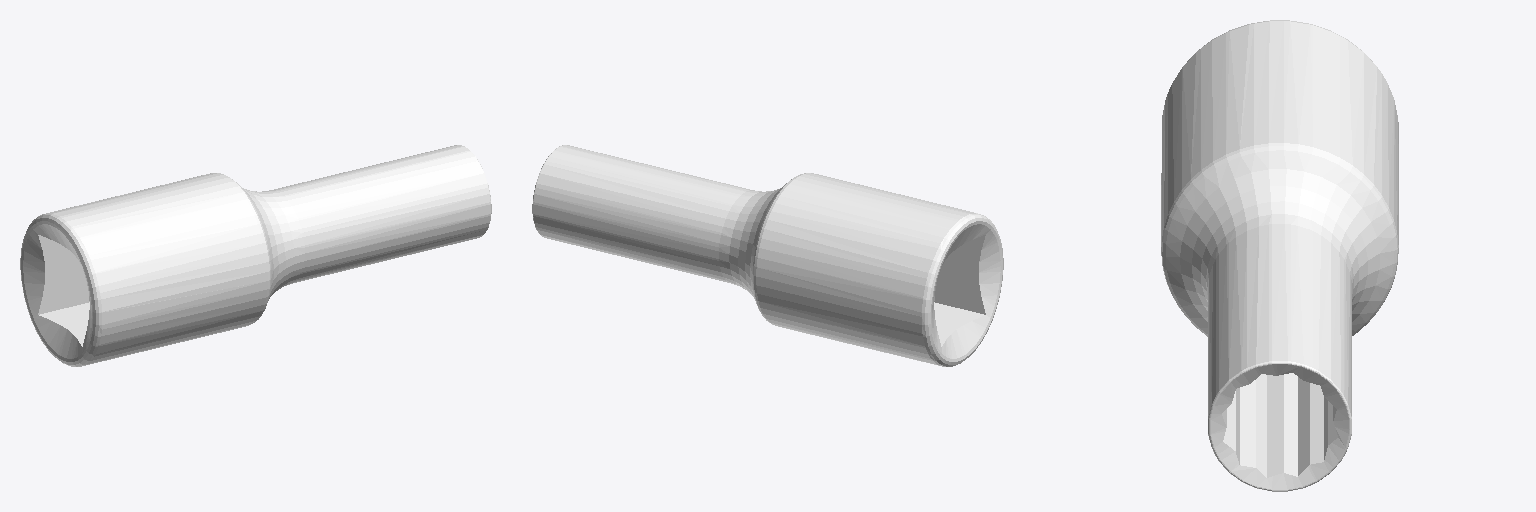
The robot description file, URDF, robot "M6_sleeve":
<?xml version="1.0" encoding="utf-8"?>
<!-- This URDF was automatically created by SolidWorks to URDF Exporter! Originally created by [author] ([email redacted]) 
     Commit Version: 1.6.0-4-g7f85cfe  Build Version: 1.6.7995.38578
     For more information, please see http://wiki.ros.org/sw_urdf_exporter -->
<robot
  name="M6_sleeve">
  <link
    name="M6_sleeve_base_link">
    <inertial>
      <origin
        xyz="-0.0011603 -1.1059E-17 1.8063E-16"
        rpy="0 0 0" />
      <mass
        value="0.010651" />
      <inertia
        ixx="8.1338E-07"
        ixy="2.9592E-21"
        ixz="-4.8249E-20"
        iyy="3.3923E-06"
        iyz="1.2184E-38"
        izz="3.3923E-06" />
    </inertial>
    <visual>
      <origin
        xyz="0 0 0"
        rpy="0 0 0" />
      <geometry>
        <mesh
          filename="package://M6_sleeve/meshes/M6_sleeve_base_link.dae" />
      </geometry>
      <material
        name="">
        <color
          rgba="1 1 1 1" />
      </material>
    </visual>
    <collision>
      <origin
        xyz="0 0 0"
        rpy="0 0 0" />
      <geometry>
        <mesh
          filename="package://M6_sleeve/meshes/M6_sleeve_base_link.dae" />
      </geometry>
    </collision>
  </link>
</robot>

--- Facts derived from the render (not from the file) ---
The picture shows the robot from 3 angles, left to right: view 1: azimuth 30°, elevation 25°; view 2: azimuth 150°, elevation 25°; view 3: azimuth 270°, elevation 25°; orthographic projection.
Robot: M6_sleeve — 1 links, 0 joints (none); root link M6_sleeve_base_link; default pose: all joints at 0.
Visible links, largest first — view 1: M6_sleeve_base_link; view 2: M6_sleeve_base_link; view 3: M6_sleeve_base_link.
Boxes of the visible links, left/top/right/bottom form: M6_sleeve_base_link: left=20, top=145, right=491, bottom=366; M6_sleeve_base_link: left=532, top=145, right=1003, bottom=366; M6_sleeve_base_link: left=1161, top=20, right=1398, bottom=491.
Bounding box of the posed robot: 0.0693 × 0.023 × 0.023 m (x, y, z).
Meshes: 1 distinct files referenced, 1 mesh visuals loaded (1 Collada DAE).